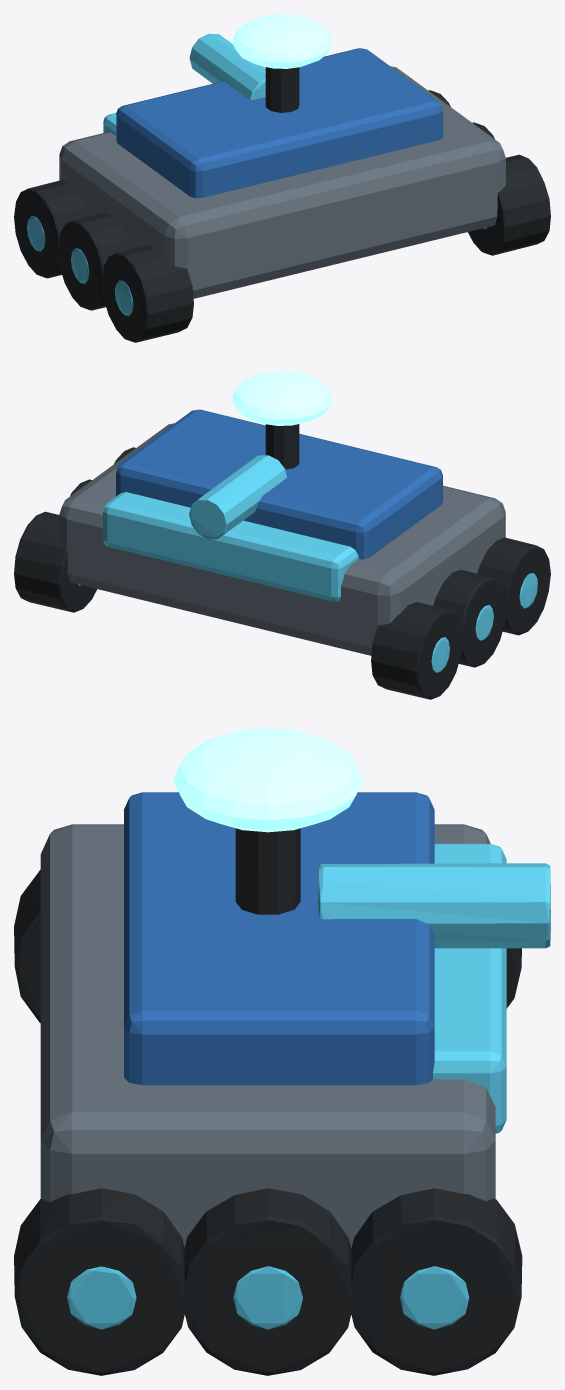
The model's file is SM_Alliance_AL_KestrelScout_LOD1.fbx.
The picture shows the model from 3 angles, top to bottom: view 1: azimuth 30°, elevation 25°; view 2: azimuth 150°, elevation 25°; view 3: azimuth 270°, elevation 25°; orthographic projection. The views are drawn at different scales.
Parts seen in each view (by area): view 1: LOD01_SM_Alliance_AL_KestrelScout; view 2: LOD01_SM_Alliance_AL_KestrelScout; view 3: LOD01_SM_Alliance_AL_KestrelScout.
Boxes of the visible parts, box(x1,y1,x2,y2) form: LOD01_SM_Alliance_AL_KestrelScout: box(14, 14, 550, 342); LOD01_SM_Alliance_AL_KestrelScout: box(14, 371, 550, 699); LOD01_SM_Alliance_AL_KestrelScout: box(14, 728, 550, 1375).
Bounding box in the file's own units: 336 × 203 × 186.
